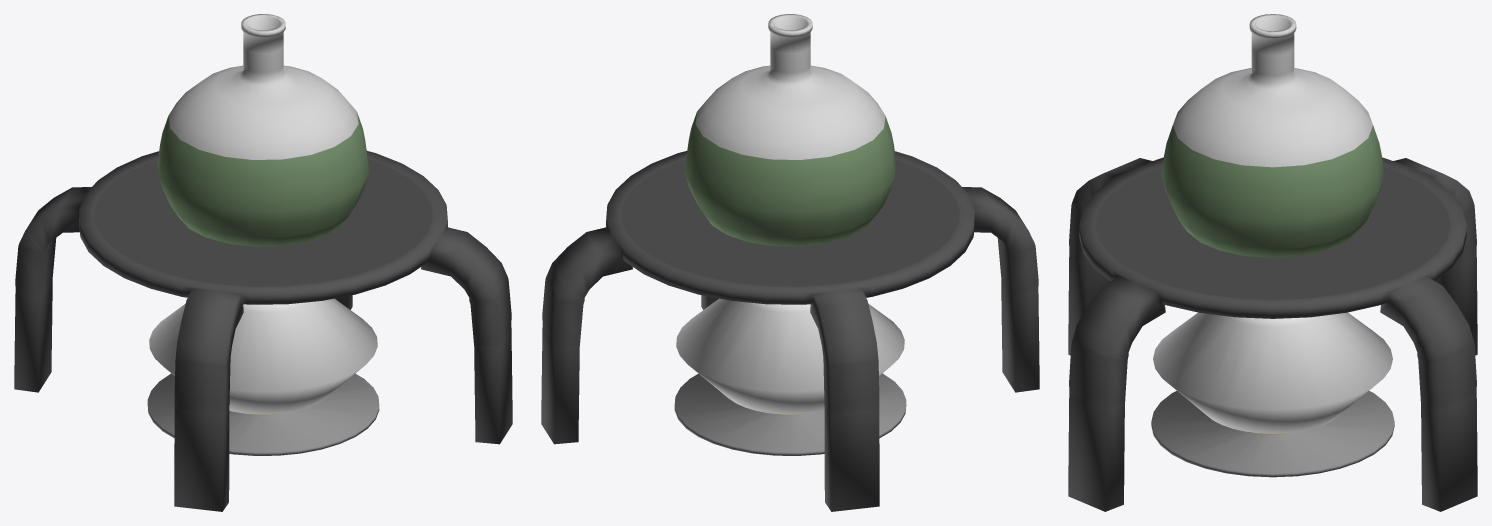
File: Flask heating table.fbx
The picture shows the model from 3 angles, left to right: view 1: azimuth 30°, elevation 25°; view 2: azimuth 150°, elevation 25°; view 3: azimuth 270°, elevation 25°; orthographic projection. The views are drawn at different scales.
Visible parts, largest first — view 1: Circle; view 2: Circle; view 3: Circle.
Part boxes in pixels (bbox=[...]): Circle: bbox=[14, 14, 512, 511]; Circle: bbox=[541, 14, 1039, 511]; Circle: bbox=[1068, 14, 1477, 511].
Bounding box in the file's own units: 0.3001 × 0.3251 × 0.3001.
